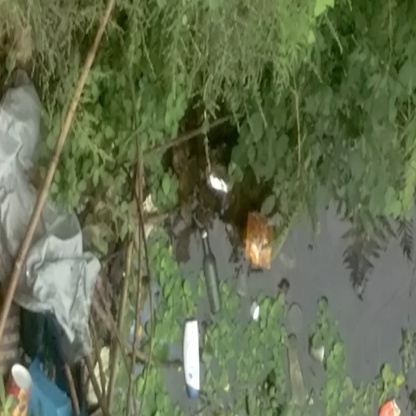bottle: (198, 225, 229, 316), (177, 319, 209, 400)
